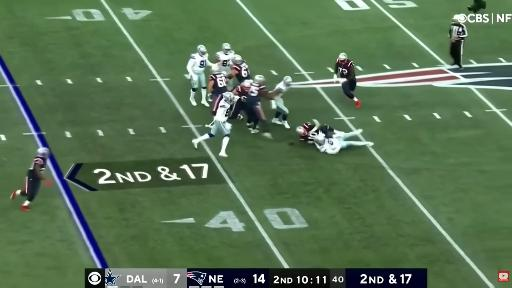Helmet: (222, 91, 235, 104), (314, 134, 325, 144), (197, 45, 207, 55), (38, 148, 49, 157), (222, 43, 231, 54), (283, 76, 292, 86), (254, 75, 265, 83), (232, 55, 242, 63), (296, 127, 306, 135), (211, 64, 219, 74), (242, 80, 252, 87), (339, 53, 347, 60)
Jersey: (247, 83, 265, 109), (188, 53, 207, 74), (209, 73, 227, 95), (319, 138, 343, 154), (28, 157, 47, 177), (233, 61, 250, 83), (214, 99, 230, 122), (300, 123, 318, 143), (336, 59, 354, 78), (216, 51, 234, 70), (248, 82, 266, 97), (233, 86, 250, 101), (275, 82, 290, 97)
Player: (192, 92, 235, 157), (11, 148, 51, 211), (246, 75, 271, 138), (187, 45, 212, 106), (314, 130, 373, 154), (334, 53, 360, 107), (271, 76, 292, 129), (296, 120, 341, 143), (230, 80, 252, 119), (228, 82, 250, 119), (207, 65, 227, 101), (229, 55, 250, 83), (216, 43, 234, 75)
